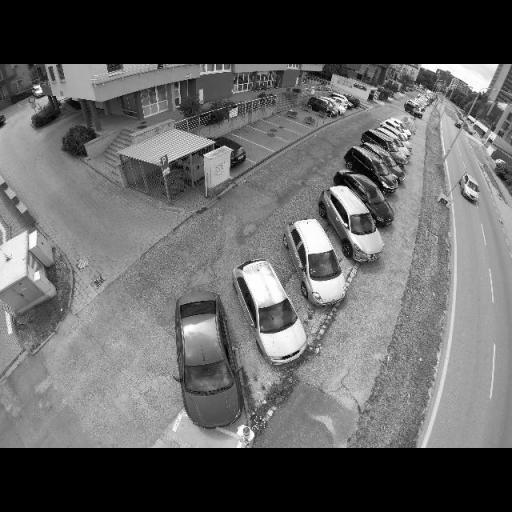busy: (176, 292, 250, 428), (227, 254, 312, 365), (284, 218, 354, 304), (320, 180, 388, 260), (346, 145, 403, 183), (203, 136, 248, 165), (360, 132, 410, 156), (371, 123, 408, 146), (306, 98, 340, 115), (457, 178, 482, 200), (380, 120, 406, 136), (329, 94, 356, 109)
free: (239, 142, 262, 156), (262, 125, 284, 134), (250, 133, 268, 142), (280, 120, 294, 130)
